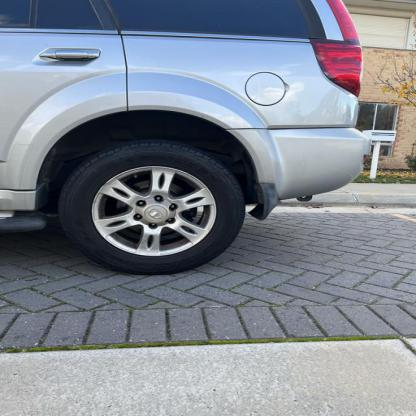Tire: (57, 140, 247, 278)
